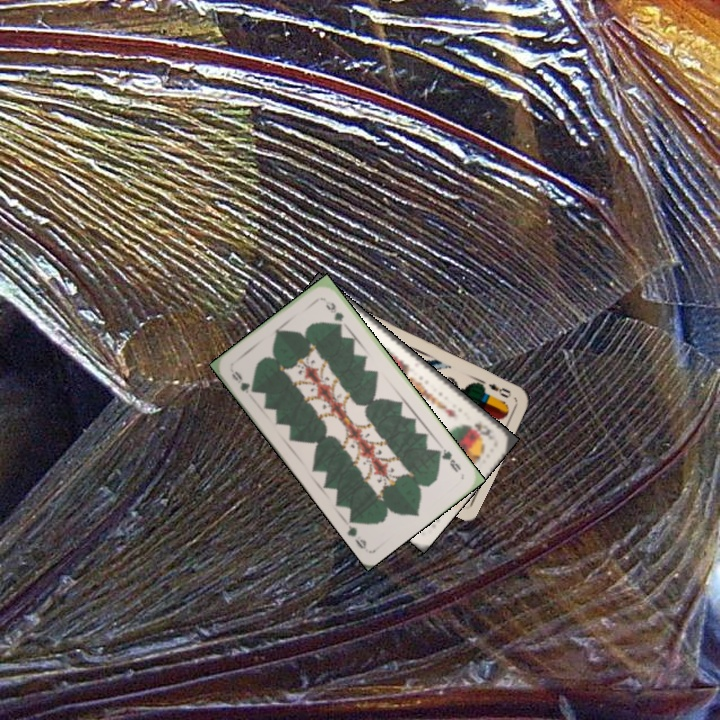EO: (484, 379, 514, 401)
G9: (433, 445, 464, 475), (227, 367, 259, 396)
SK: (470, 419, 496, 441)
